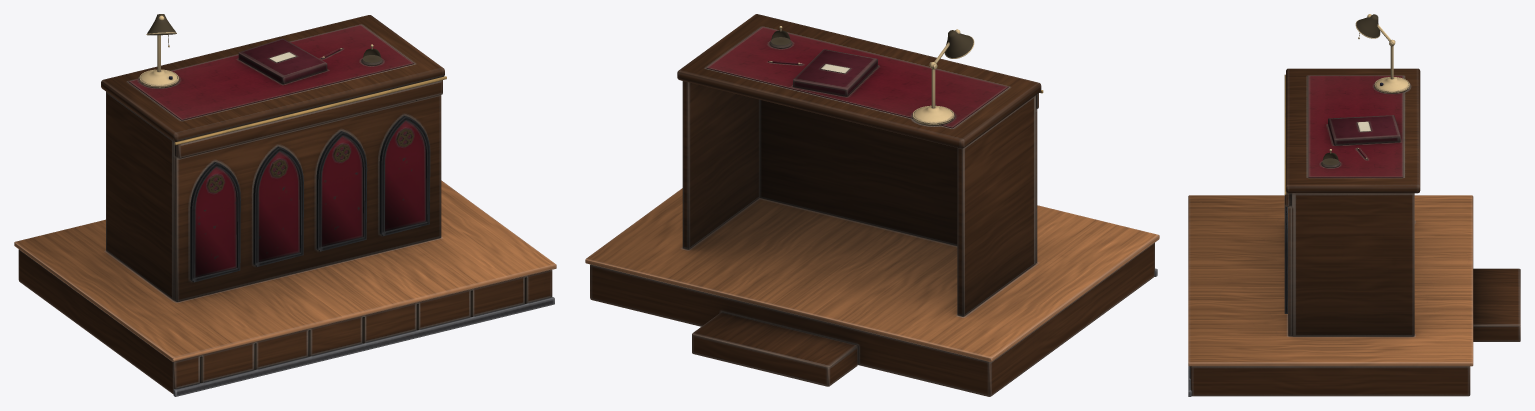
File: SupervisorPodium.fbx
The picture shows the model from 3 angles, left to right: view 1: azimuth 30°, elevation 25°; view 2: azimuth 150°, elevation 25°; view 3: azimuth 270°, elevation 25°; orthographic projection. The views are drawn at different scales.
Parts seen in each view (by area): view 1: SupervisorPodium_Main; view 2: SupervisorPodium_Main; view 3: SupervisorPodium_Main.
Part boxes in pixels (<box>): SupervisorPodium_Main: <box>14,14,556,396</box>; SupervisorPodium_Main: <box>585,14,1159,396</box>; SupervisorPodium_Main: <box>1188,14,1520,396</box>.
Bounding box in the file's own units: 710 × 505 × 595.
